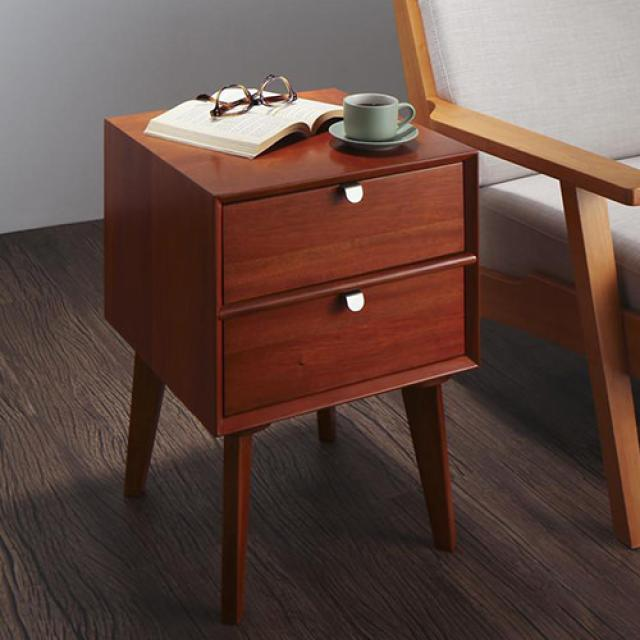vintage shelf: (99, 83, 468, 623)
